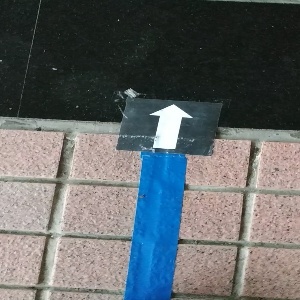straight: (117, 97, 220, 155)
